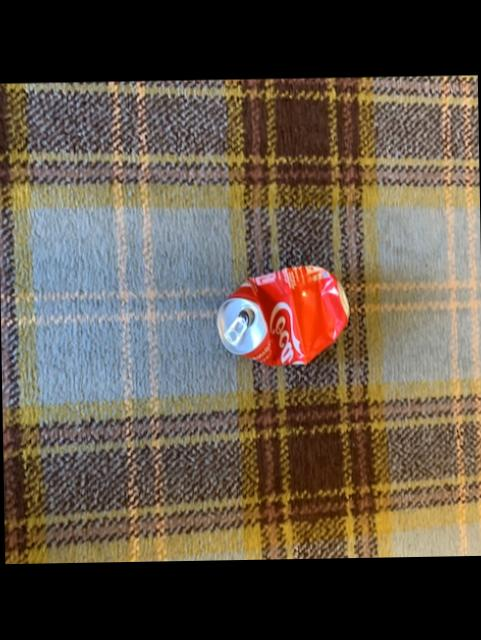metal: (215, 265, 346, 364)
